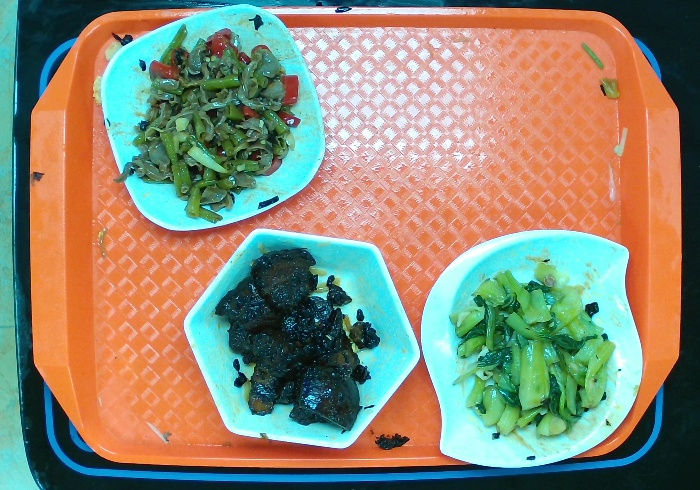RJxy-Liu_Jiao_Wan: (178, 225, 425, 451)
RJxy-Shuang_Jiao_Pan: (414, 224, 649, 470)
RJxy-Si_Fang_Wan: (94, 1, 338, 243)
